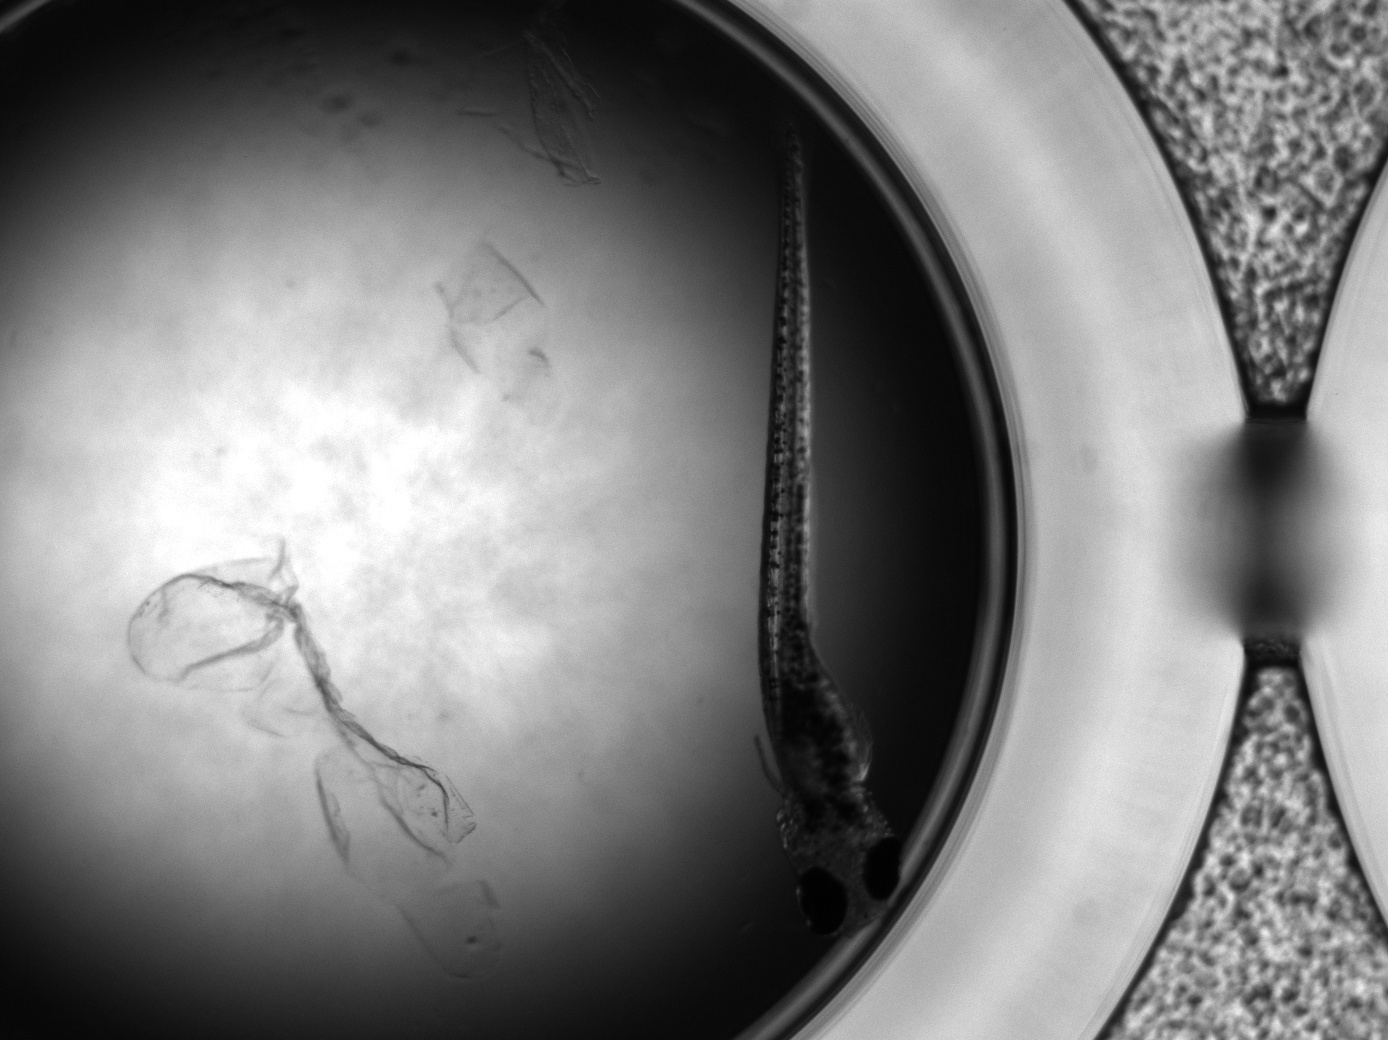debris: (126, 536, 507, 977), (431, 241, 563, 419), (518, 34, 610, 190)
embryo: (754, 127, 903, 943)
eye: (795, 866, 850, 936), (862, 838, 902, 905)
yolksac: (756, 635, 871, 797)
